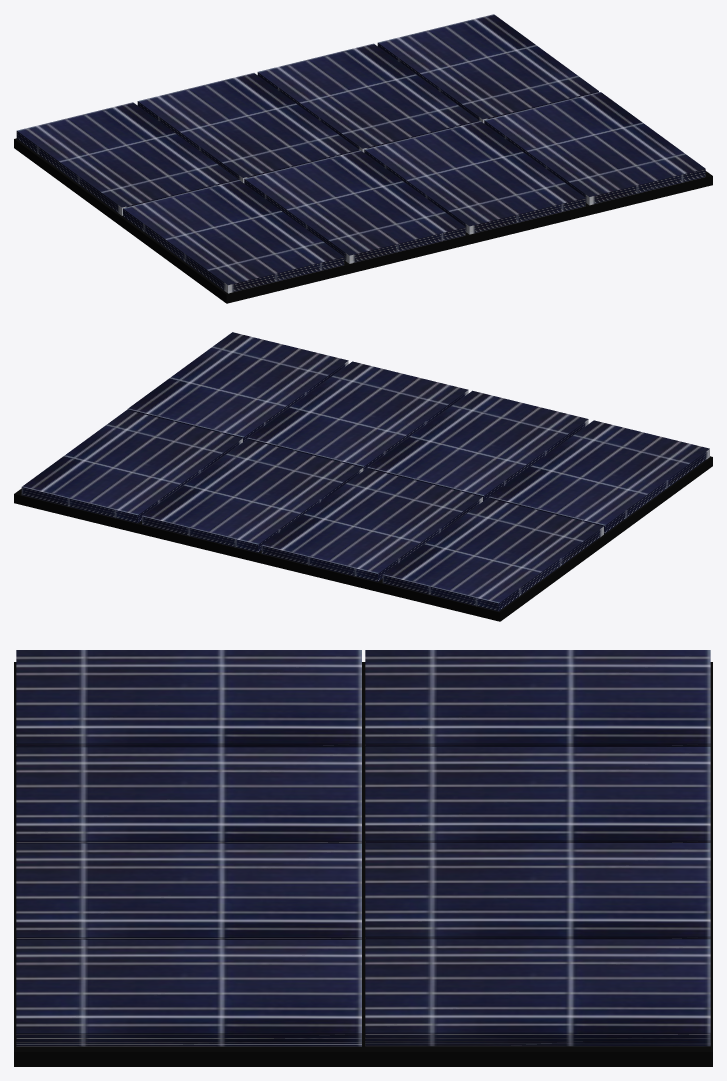
File: panneaux_solaires.fbx
3 views of the same model, one above another, from view 1: azimuth 30°, elevation 25°; view 2: azimuth 150°, elevation 25°; view 3: azimuth 270°, elevation 25° (orthographic). The views are drawn at different scales.
Visible parts, largest first — view 1: Cube.002, Cube.003, Cube.005, Cube.006, Cube.001, Cube.004, Cube.008, Cube.007, Cube; view 2: Cube.001, Cube.004, Cube.008, Cube.007, Cube.002, Cube.003, Cube.005, Cube.006, Cube; view 3: Cube.008, Cube.006, Cube.002, Cube.001, Cube.003, Cube.005, Cube.007, Cube.004, Cube.
Boxes of the visible parts, <box> form: Cube.002: <box>123,180,344,293</box>; Cube.003: <box>244,150,465,263</box>; Cube.005: <box>364,121,585,234</box>; Cube.006: <box>484,92,705,205</box>; Cube.001: <box>16,102,238,215</box>; Cube.004: <box>137,73,359,183</box>; Cube.008: <box>377,14,598,123</box>; Cube.007: <box>257,43,478,152</box>; Cube: <box>14,138,712,303</box>; Cube.001: <box>382,498,603,611</box>; Cube.004: <box>261,468,482,581</box>; Cube.008: <box>21,410,242,523</box>; Cube.007: <box>142,439,363,552</box>; Cube.002: <box>488,420,709,533</box>; Cube.003: <box>367,390,588,500</box>; Cube.005: <box>247,361,468,470</box>; Cube.006: <box>127,332,348,441</box>; Cube: <box>14,456,712,621</box>; Cube.008: <box>365,939,710,1046</box>; Cube.006: <box>16,940,361,1046</box>; Cube.002: <box>16,650,361,747</box>; Cube.001: <box>365,650,710,746</box>; Cube.003: <box>16,747,361,843</box>; Cube.005: <box>16,843,361,939</box>; Cube.007: <box>365,843,710,939</box>; Cube.004: <box>365,747,710,842</box>; Cube: <box>14,662,712,1066</box>.
Bounding box in the file's own units: 837 × 28.69 × 634.
